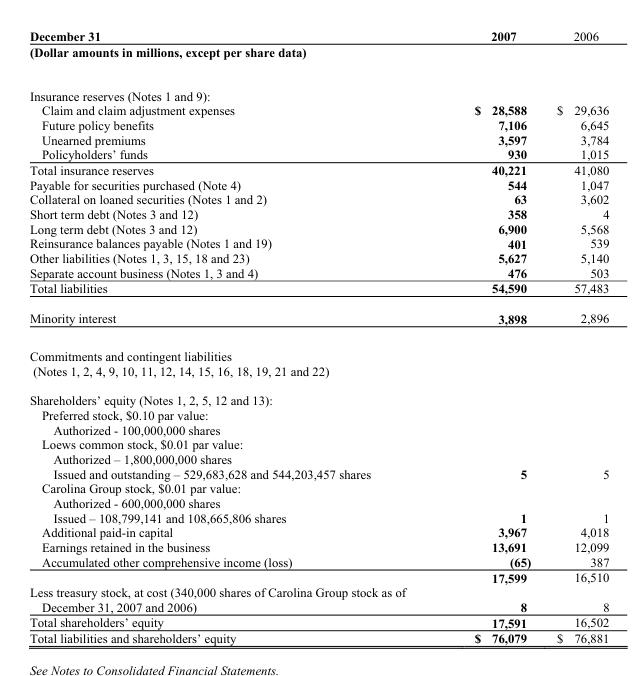table: (28, 28, 608, 644)
table column: (28, 28, 421, 644), (421, 28, 543, 644), (543, 28, 608, 644)
table column header: (28, 28, 608, 43)
table projected row header: (28, 43, 608, 73), (28, 73, 608, 102), (28, 336, 608, 363), (28, 363, 608, 385), (28, 385, 608, 407), (28, 421, 608, 436), (28, 436, 608, 451), (28, 480, 608, 495), (28, 495, 608, 510), (28, 584, 608, 599), (28, 407, 608, 421), (28, 451, 608, 465)
table row: (28, 303, 608, 336), (28, 43, 608, 73), (28, 73, 608, 102), (28, 336, 608, 363), (28, 280, 608, 303), (28, 363, 608, 385), (28, 385, 608, 407), (28, 161, 608, 177), (28, 28, 608, 43), (28, 102, 608, 117), (28, 117, 608, 132), (28, 146, 608, 161), (28, 191, 608, 206), (28, 206, 608, 221), (28, 235, 608, 250), (28, 250, 608, 265), (28, 265, 608, 280), (28, 421, 608, 436), (28, 436, 608, 451), (28, 465, 608, 480), (28, 480, 608, 495), (28, 495, 608, 510), (28, 524, 608, 539), (28, 539, 608, 554), (28, 554, 608, 569), (28, 569, 608, 584), (28, 584, 608, 599), (28, 599, 608, 614), (28, 614, 608, 629), (28, 629, 608, 644), (28, 132, 608, 146), (28, 177, 608, 191), (28, 221, 608, 235), (28, 407, 608, 421), (28, 451, 608, 465), (28, 510, 608, 524)
